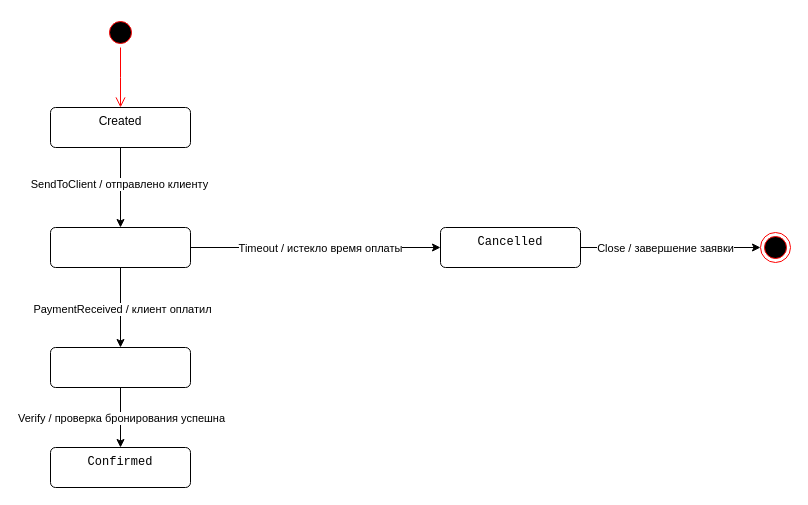
This 808x505 diagram has some shape labels left out. Each missing label, with the centre of its shape:
Paid: the point at 120,367
WaitingForPayment: the point at 120,247
